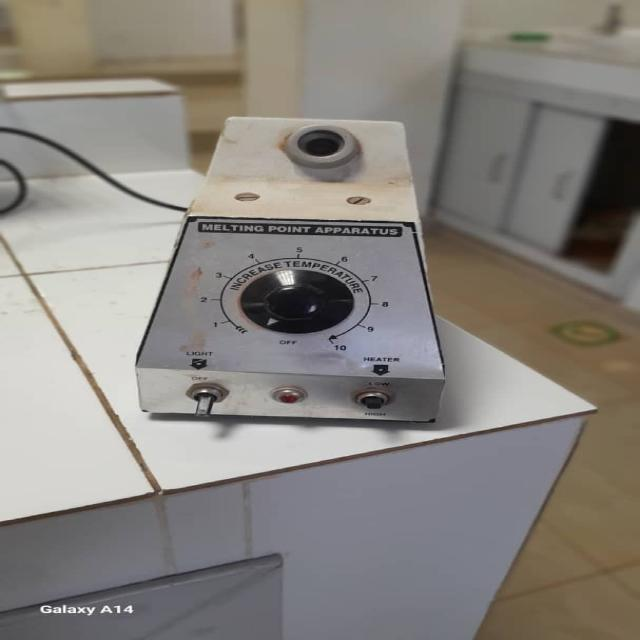Melting Point Apparatus: (126, 108, 453, 431)
